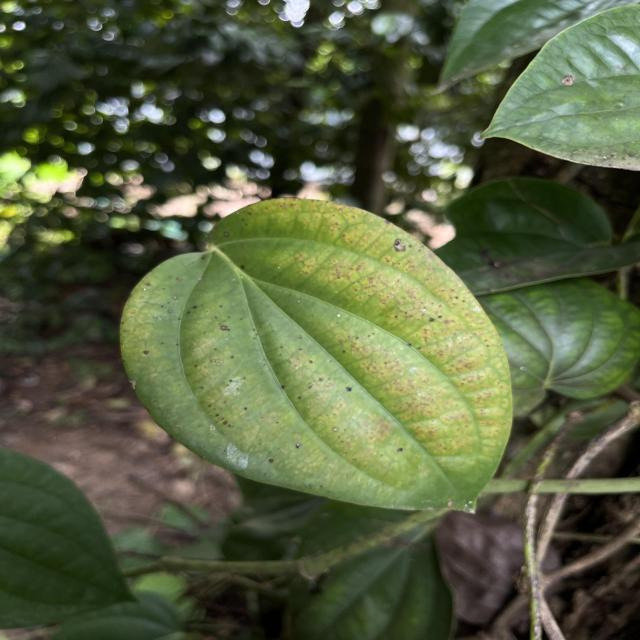Piper nigrum: (116, 195, 518, 518)
